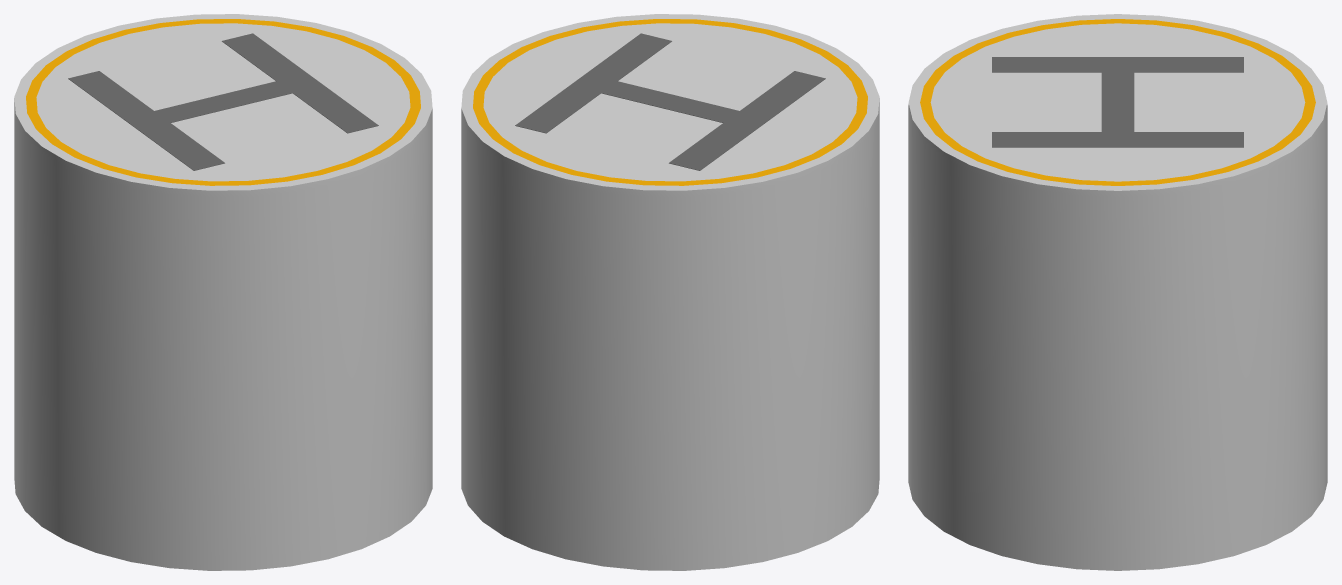
The model's file is Helipad.fbx.
3 renders of one model, left to right at view 1: azimuth 30°, elevation 25°; view 2: azimuth 150°, elevation 25°; view 3: azimuth 270°, elevation 25°, orthographic.
Parts seen in each view (by area): view 1: Cylinder, Text; view 2: Cylinder, Text; view 3: Cylinder, Text.
Part boxes in pixels (bbox=[...]): Cylinder: bbox=[14, 14, 432, 570]; Text: bbox=[68, 33, 378, 170]; Cylinder: bbox=[461, 14, 879, 570]; Text: bbox=[515, 33, 825, 170]; Cylinder: bbox=[908, 14, 1327, 570]; Text: bbox=[992, 57, 1243, 147].
Bounding box in the file's own units: 1502 × 1503 × 1502.
